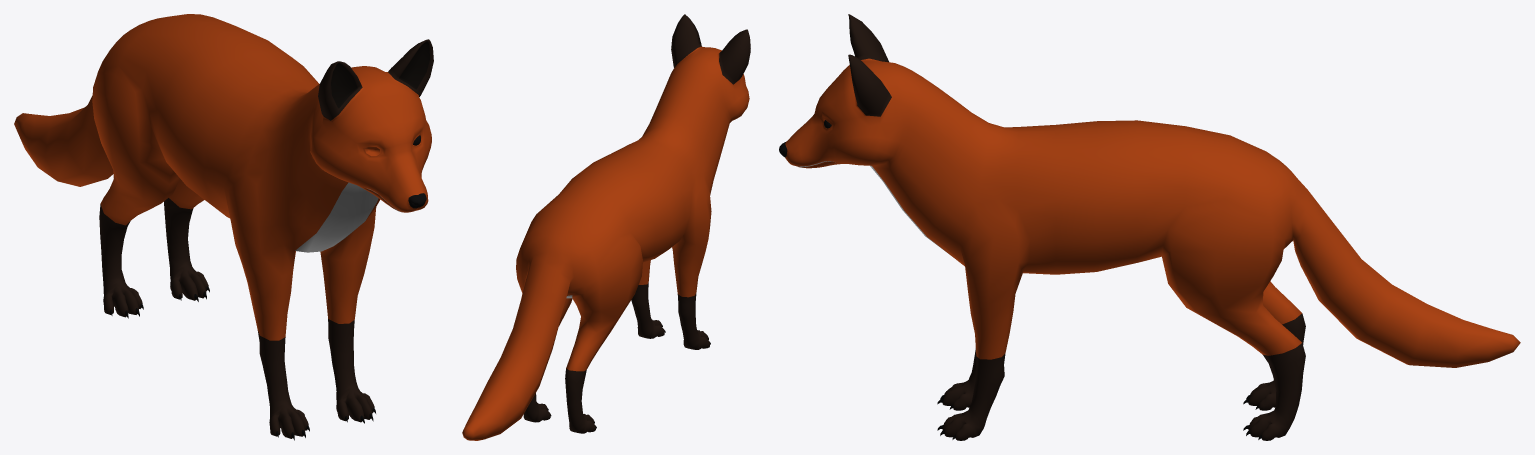
The model's file is fox.obj.
3 renders of one model, left to right at view 1: azimuth 30°, elevation 25°; view 2: azimuth 150°, elevation 25°; view 3: azimuth 270°, elevation 25°, orthographic. The views are drawn at different scales.
Visible parts, largest first — view 1: fox; view 2: fox; view 3: fox.
Part boxes in pixels (left/top/right/bottom): fox: left=14, top=14, right=433, bottom=440; fox: left=462, top=14, right=750, bottom=440; fox: left=779, top=14, right=1520, bottom=440.
Size of the model in its own units: 0.2749 by 0.729 by 1.27.
